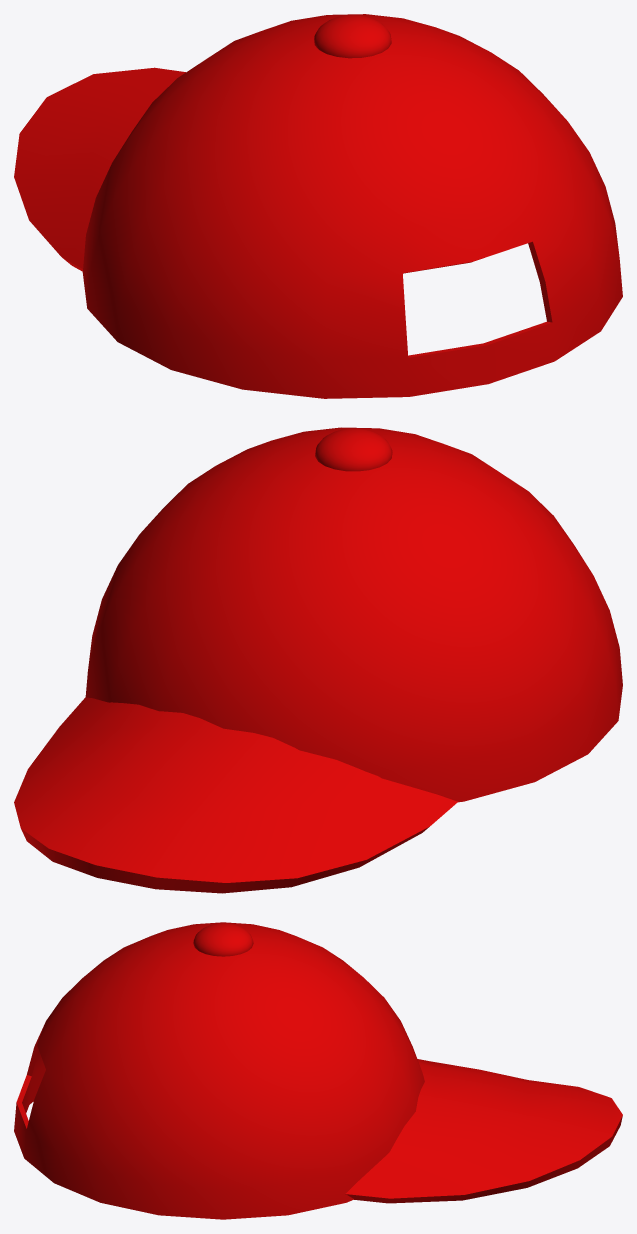
Rendered from Cap.fbx.
3 renders of one model, top to bottom at view 1: azimuth 30°, elevation 25°; view 2: azimuth 150°, elevation 25°; view 3: azimuth 270°, elevation 25°, orthographic. The views are drawn at different scales.
Parts seen in each view (by area): view 1: pSphere1, pDisc1, pSphere2; view 2: pSphere1, pDisc1, pSphere2; view 3: pSphere1, pDisc1, pSphere2.
Boxes of the visible parts, x1,y1,x2,y2 form: pSphere1: [82, 14, 622, 398]; pDisc1: [14, 67, 185, 271]; pSphere2: [314, 15, 391, 58]; pSphere1: [85, 427, 622, 802]; pDisc1: [14, 697, 457, 893]; pSphere2: [315, 428, 392, 471]; pSphere1: [14, 922, 424, 1219]; pDisc1: [345, 1059, 622, 1203]; pSphere2: [193, 923, 253, 956].
Size of the model in its own units: 23.21 by 13.34 by 33.74.
